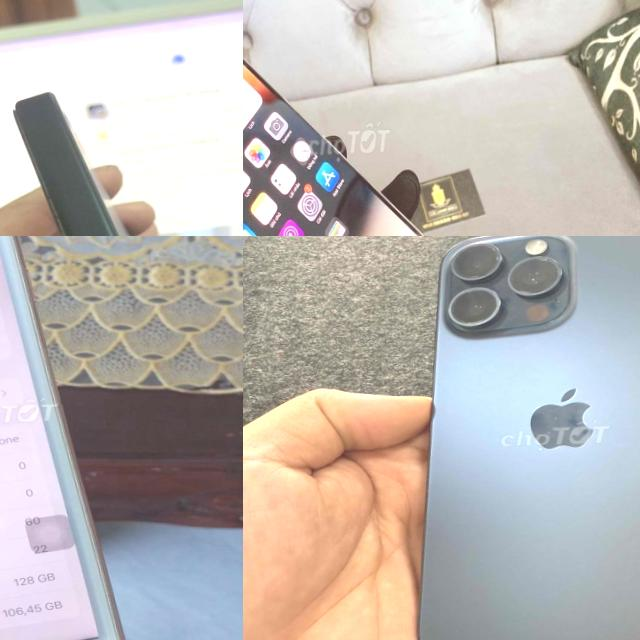gen_14: (243, 59, 423, 236)
gen_15: (401, 236, 640, 640)
gen_16: (13, 92, 137, 236)
gen_7_8: (0, 236, 141, 640)
